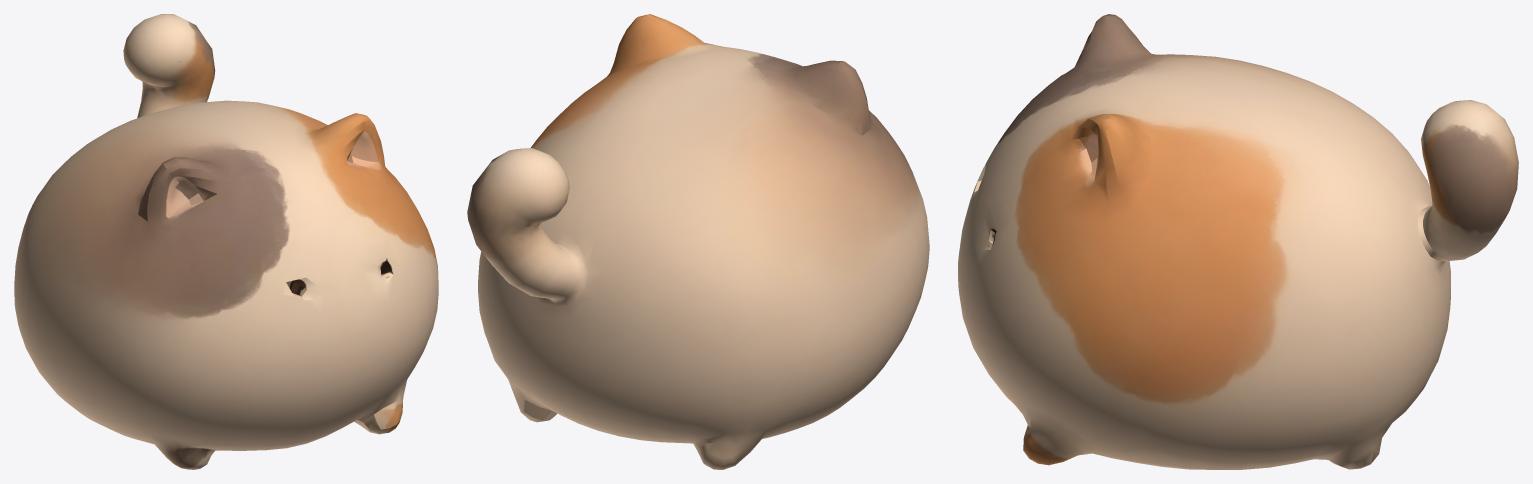
File: Animal_Cat_01.glb
3 renders of one model, left to right at view 1: azimuth 30°, elevation 25°; view 2: azimuth 150°, elevation 25°; view 3: azimuth 270°, elevation 25°, orthographic. The views are drawn at different scales.
Parts seen in each view (by area): view 1: Animal_Cat_01.001; view 2: Animal_Cat_01.001; view 3: Animal_Cat_01.001.
Part boxes in pixels (x1,y1,x2,y2): Animal_Cat_01.001: (14, 14, 438, 469); Animal_Cat_01.001: (467, 14, 929, 469); Animal_Cat_01.001: (958, 14, 1518, 469).
Size of the model in its own units: 0.8338 by 0.6929 by 1.
Materials: 1 (1 with a texture image).
